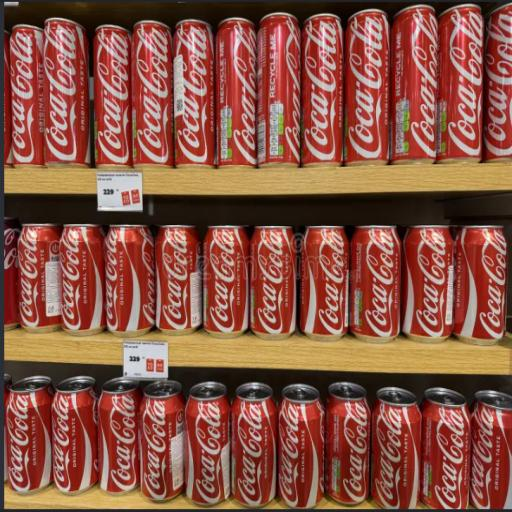coca_cola: (390, 5, 437, 163), (437, 4, 483, 162), (343, 9, 389, 165), (44, 18, 89, 166), (453, 226, 508, 344), (258, 13, 300, 167), (301, 14, 343, 166), (174, 20, 216, 167), (216, 18, 257, 167), (401, 225, 453, 341), (132, 21, 173, 168), (421, 387, 470, 508), (350, 226, 401, 342), (372, 387, 420, 508), (231, 383, 277, 507), (105, 225, 156, 336), (5, 376, 53, 493), (278, 384, 324, 506), (52, 376, 99, 495), (300, 226, 349, 339), (185, 382, 230, 505), (94, 24, 132, 167), (325, 383, 370, 503), (141, 381, 185, 501), (60, 224, 106, 335), (251, 226, 296, 339), (99, 377, 142, 494), (204, 226, 249, 337), (156, 225, 201, 334), (10, 24, 44, 167), (471, 391, 511, 508), (18, 224, 61, 331), (483, 3, 511, 160), (4, 218, 20, 330), (1, 299, 4, 303)
